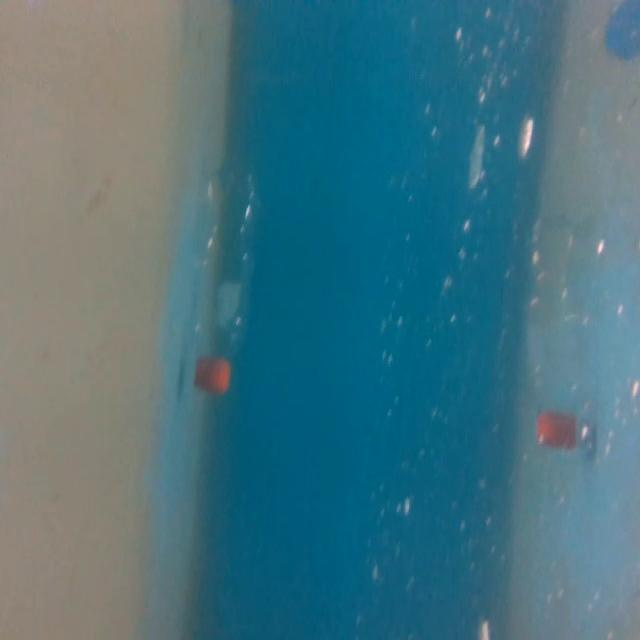plastic bottle: (193, 163, 262, 397)
